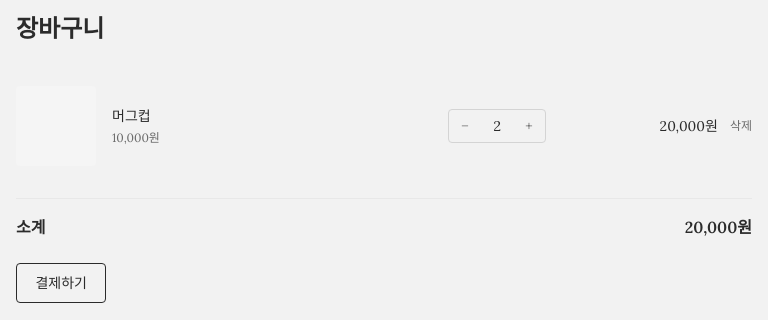
it: CartView — AC-STOREFRONT-019 › PATCHes the absolute quantity to /api/cart/items/:itemId and redraws from the response
Click the button named "머그컵 수량 증가": (529, 126) [513,110,545,142]
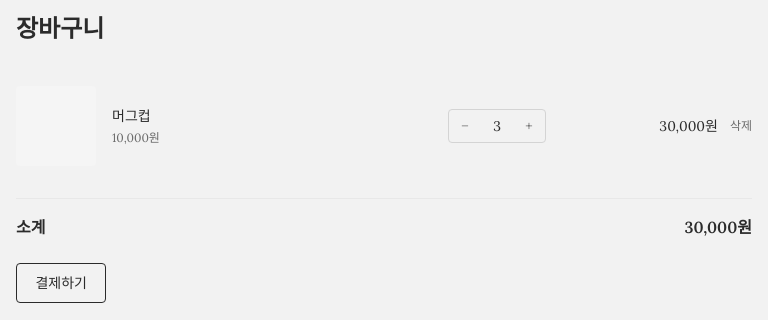
Result: the text "30,000" is shown at [659,117,718,135]
